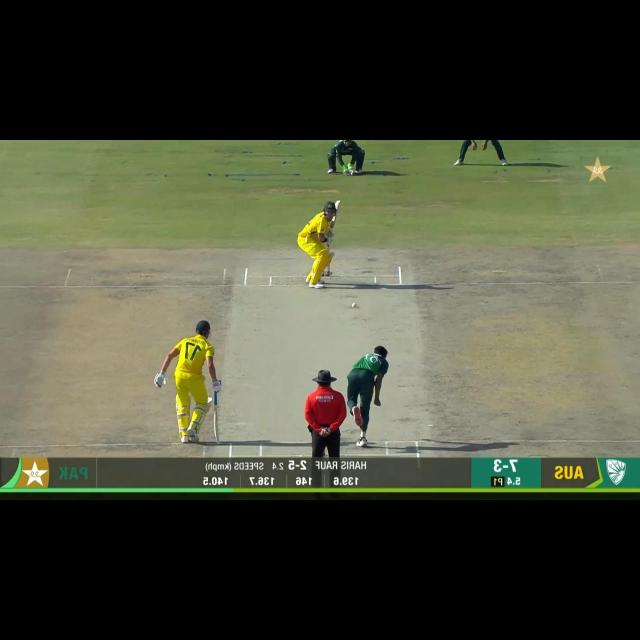bat: (210, 406, 226, 446), (328, 199, 342, 230)
toe: (213, 434, 223, 446), (334, 200, 341, 207)
